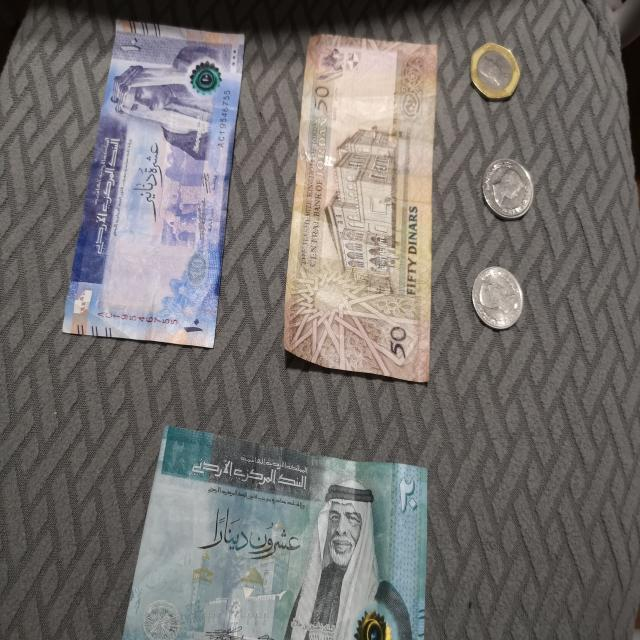10-coins: (481, 159, 534, 221)
10-dinar: (62, 19, 245, 348)
20-dinar: (122, 425, 427, 640)
5-coins: (472, 267, 523, 330)
50-coins: (470, 42, 520, 102)
50-dinar: (284, 35, 438, 382)
